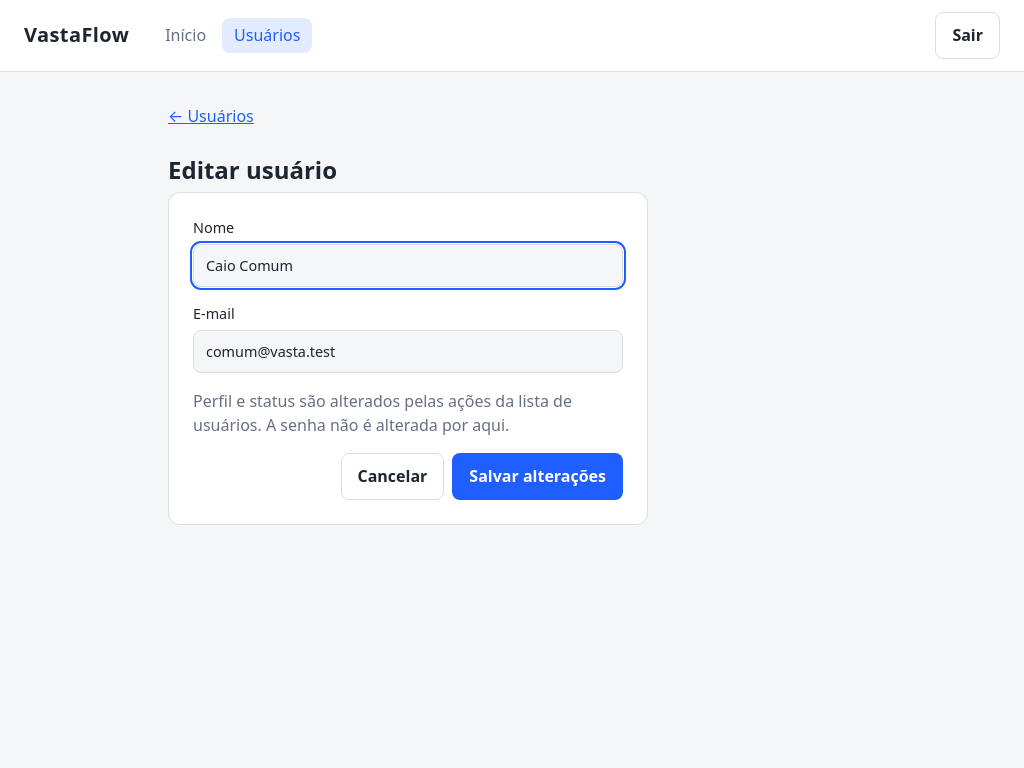
Test: formulario de usuario › edicao carrega os dados, envia so nome e e-mail e nao oferece senha nem perfil
Replace the text in the field labelled "Nome" with "Caio Editado". click: coordinates (408, 265)
box: [193, 244, 623, 287]
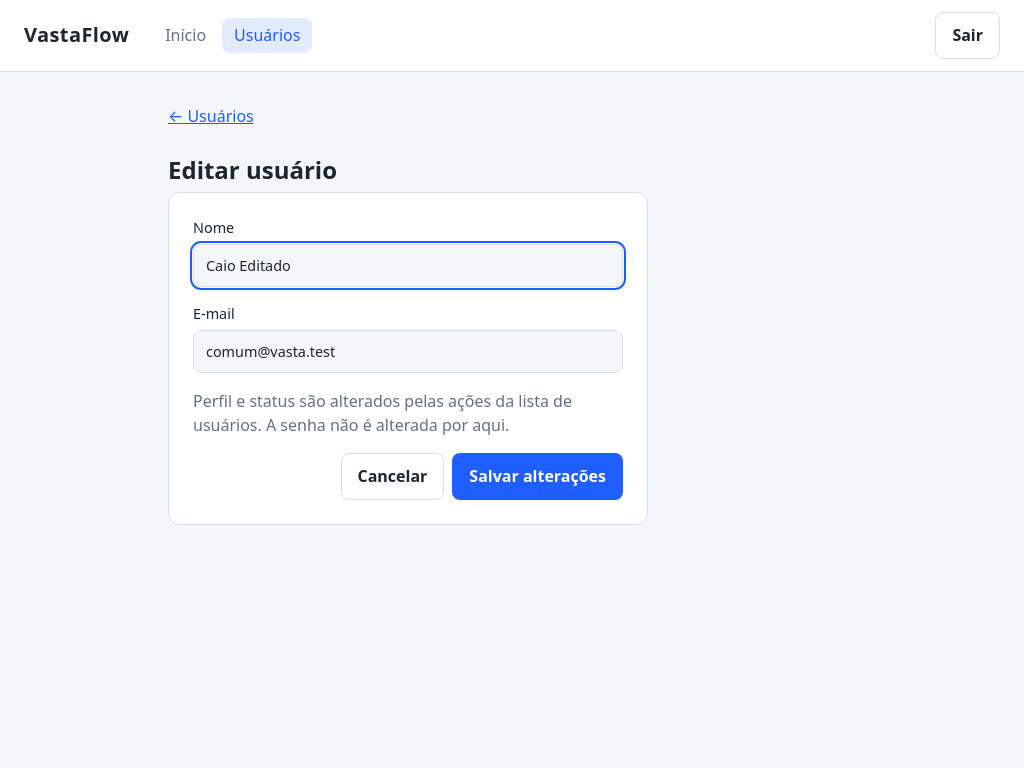
Click the button "Salvar alterações". click: coordinates (538, 476)
box: [452, 453, 623, 500]
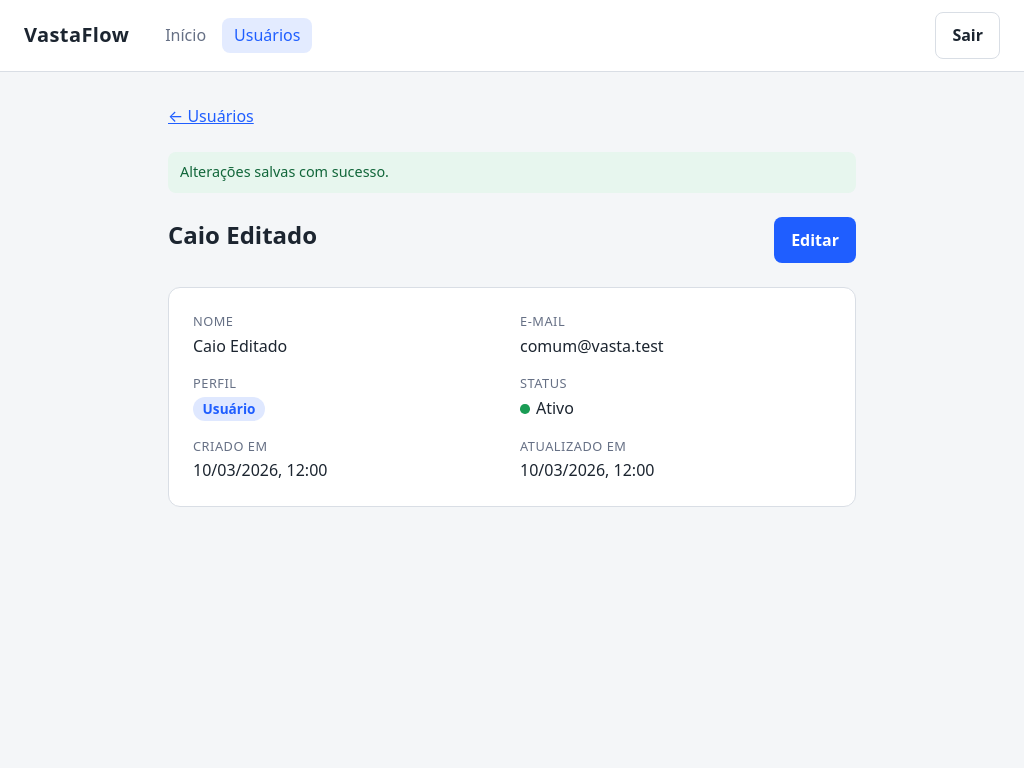
Result: the message reads "Alterações salvas com sucesso." at [180, 162, 389, 181]
Result: the heading "Caio Editado" is shown at [168, 217, 317, 253]
